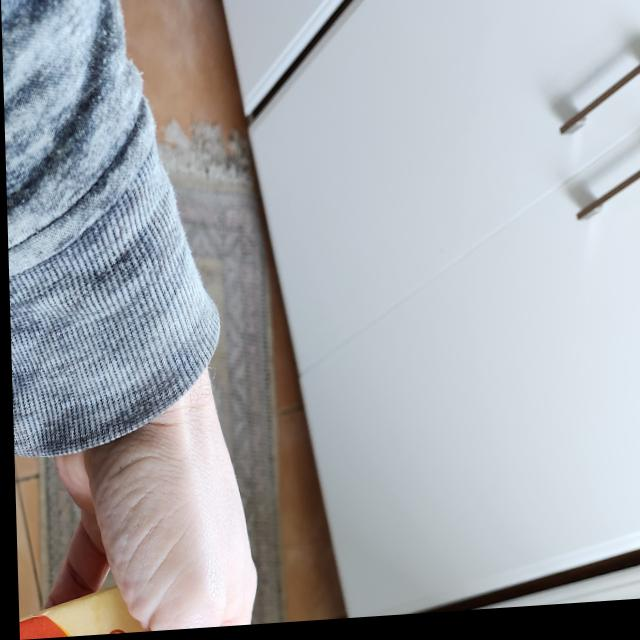butter: (14, 586, 192, 640)
